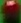brown: (0, 0, 21, 23)
